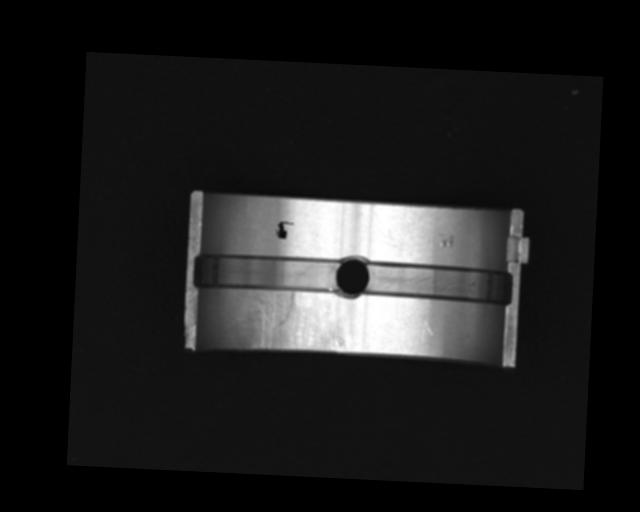blot: (275, 220, 293, 239)
bruise: (440, 234, 455, 247)
gap: (195, 252, 344, 294), (363, 262, 513, 303)
hole: (332, 254, 368, 300)
nick: (415, 299, 433, 336)
scratch: (246, 290, 345, 352)
